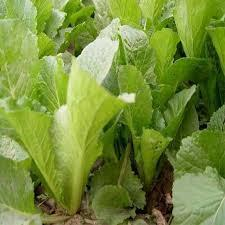Healthy-Pechay: (10, 8, 225, 184)
